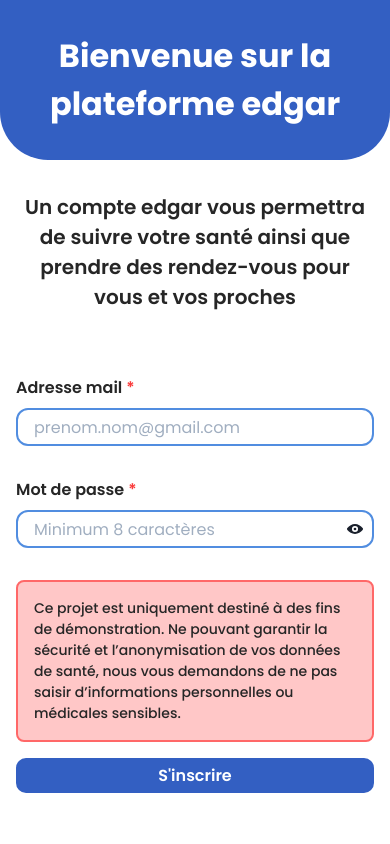
Test: Signup Page tests - Mobile › Working page › Error states › No email address
Click the button with id "edgar-signupPage-form-button" at (195, 776), box [16,758,374,793]
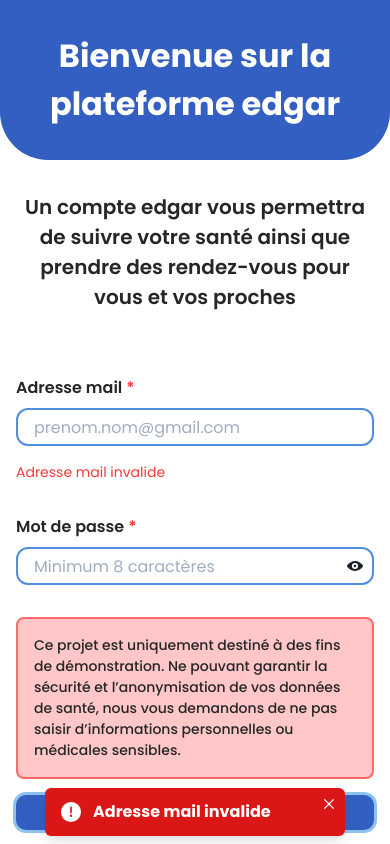
Now the text with id "edgar-signupPage-formEmailError-text" reads "Adresse mail invalide", box [16,462,165,483]
